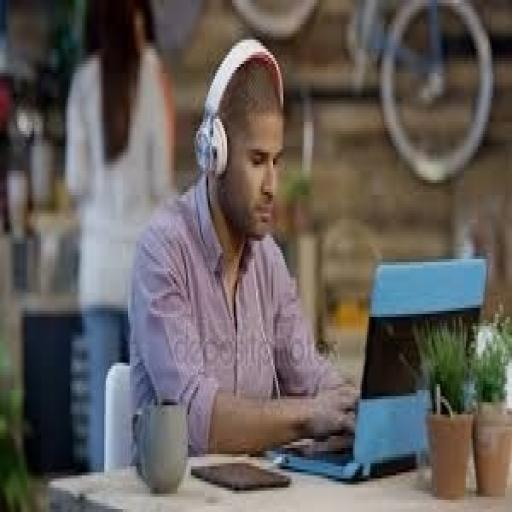listening_to_music: (126, 34, 362, 466)
